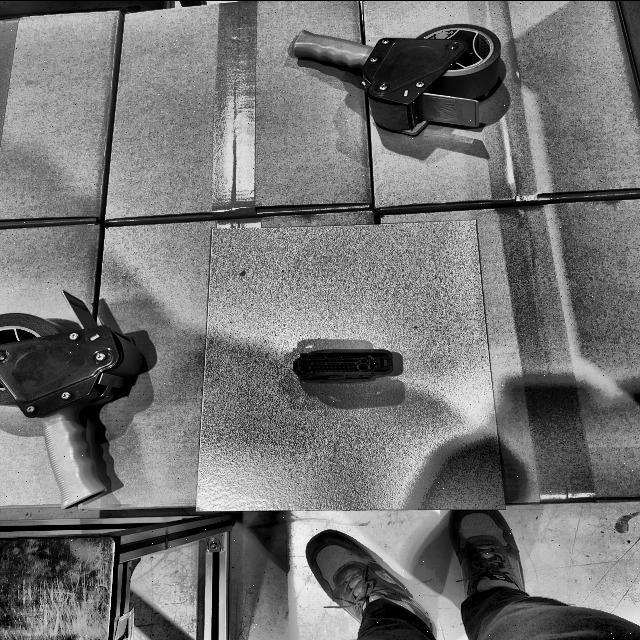P38: (293, 349, 393, 382)
